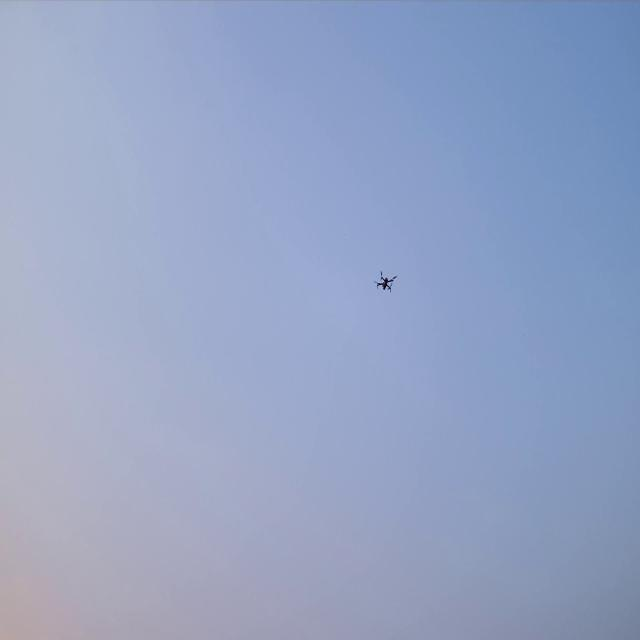UAV: (372, 269, 398, 294)
